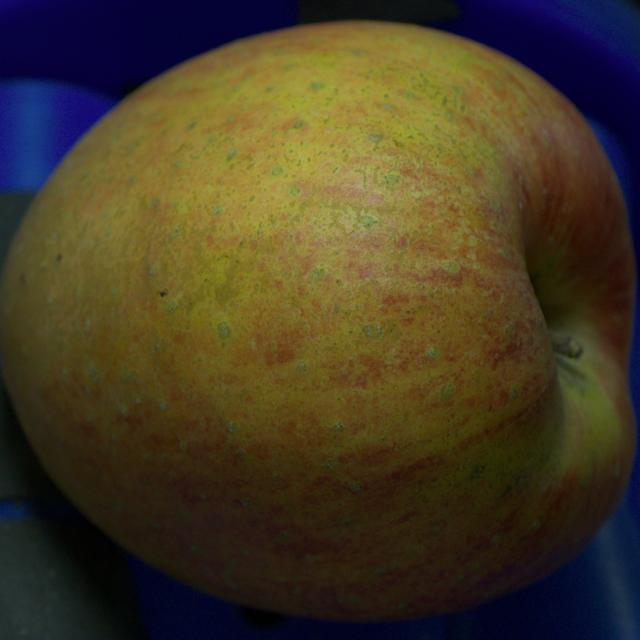apple: (0, 22, 636, 621)
pest: (159, 291, 168, 297), (57, 254, 62, 261)
